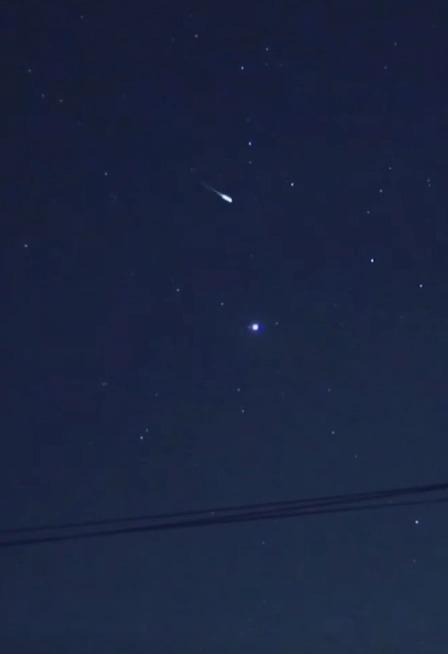meteorite: (182, 175, 247, 211)
